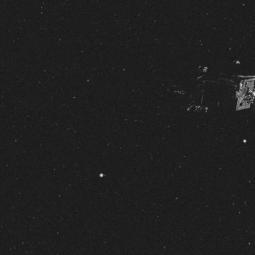lisa_pathfinder: (170, 51, 255, 124)
